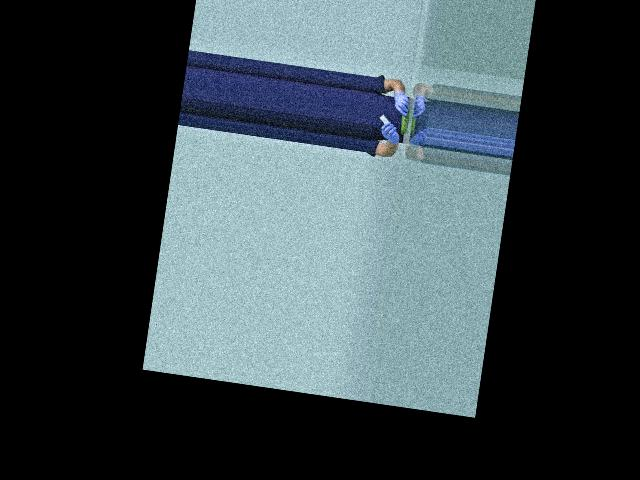cucumber: (399, 107, 410, 135)
